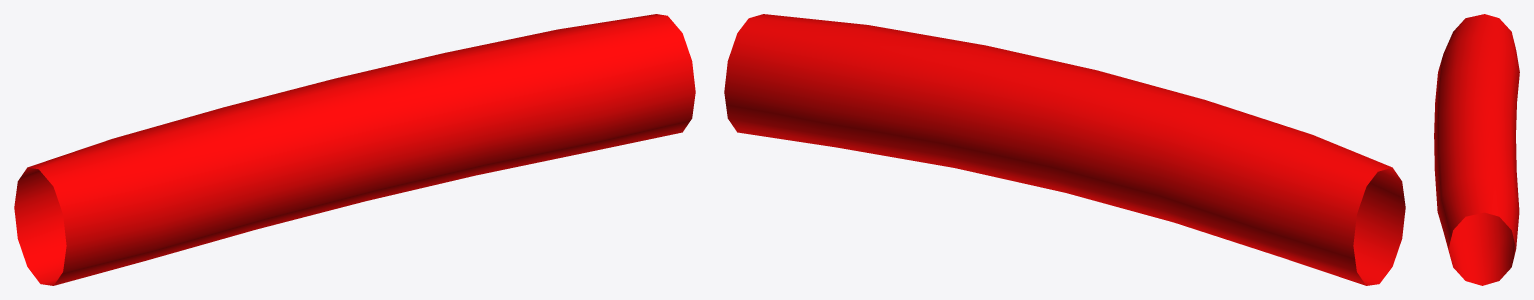
File: SM_CastleArch.FBX
3 renders of one model, left to right at view 1: azimuth 30°, elevation 25°; view 2: azimuth 150°, elevation 25°; view 3: azimuth 270°, elevation 25°, orthographic. The views are drawn at different scales.
Parts seen in each view (by area): view 1: Crossover_low; view 2: Crossover_low; view 3: Crossover_low.
Part boxes in pixels (left/top/right/bottom): Crossover_low: left=14, top=14, right=695, bottom=285; Crossover_low: left=724, top=14, right=1405, bottom=285; Crossover_low: left=1434, top=14, right=1519, bottom=285.
Bounding box in the file's own units: 442 × 87.53 × 80.77.
